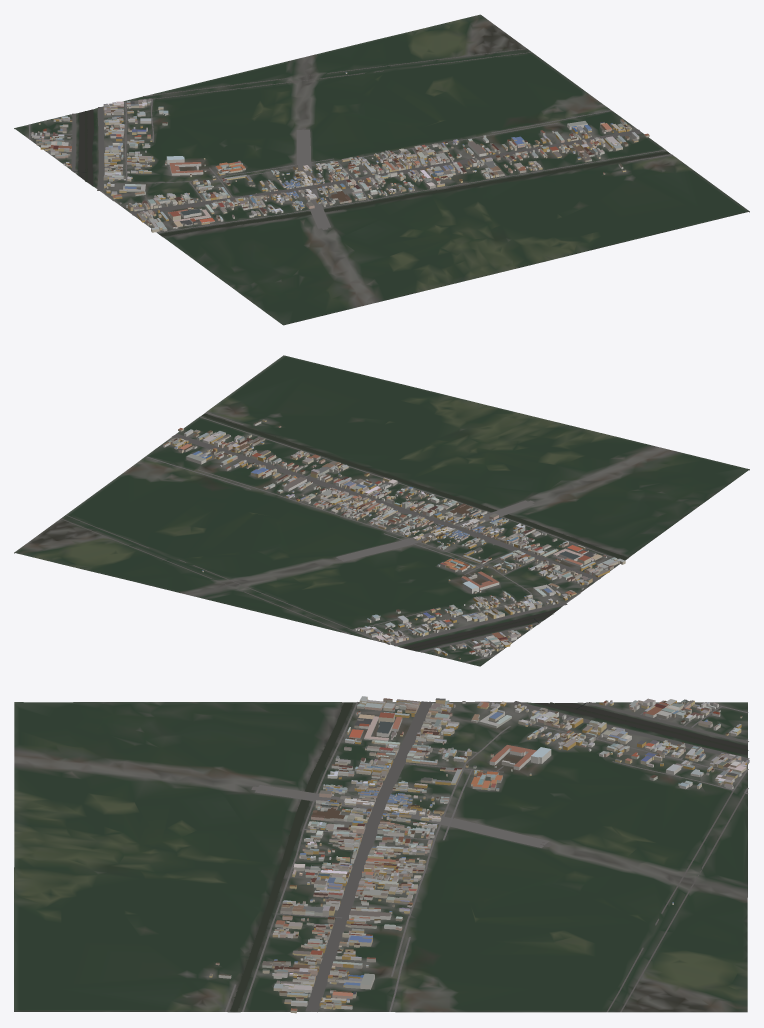
The picture shows the model from 3 angles, top to bottom: view 1: azimuth 30°, elevation 25°; view 2: azimuth 150°, elevation 25°; view 3: azimuth 270°, elevation 25°; orthographic projection. The views are drawn at different scales.
Parts seen in each view (by area): view 1: ground, buildings, roads, water; view 2: ground, buildings, roads, water; view 3: ground, buildings, roads, water.
Part boxes in pixels (x1=…): ground: x1=14, y1=14, x2=749, y2=325; buildings: x1=31, y1=72, x2=649, y2=232; roads: x1=29, y1=48, x2=672, y2=232; water: x1=73, y1=109, x2=669, y2=236; ground: x1=14, y1=355, x2=749, y2=666; buildings: x1=163, y1=419, x2=625, y2=659; roads: x1=60, y1=412, x2=617, y2=662; water: x1=202, y1=413, x2=627, y2=650; ground: x1=14, y1=702, x2=747, y2=1012; buildings: x1=209, y1=696, x2=749, y2=1013; roads: x1=225, y1=701, x2=749, y2=1012; water: x1=230, y1=702, x2=748, y2=1011.
Bounding box in the file's own units: 1415 × 19.26 × 1405.
